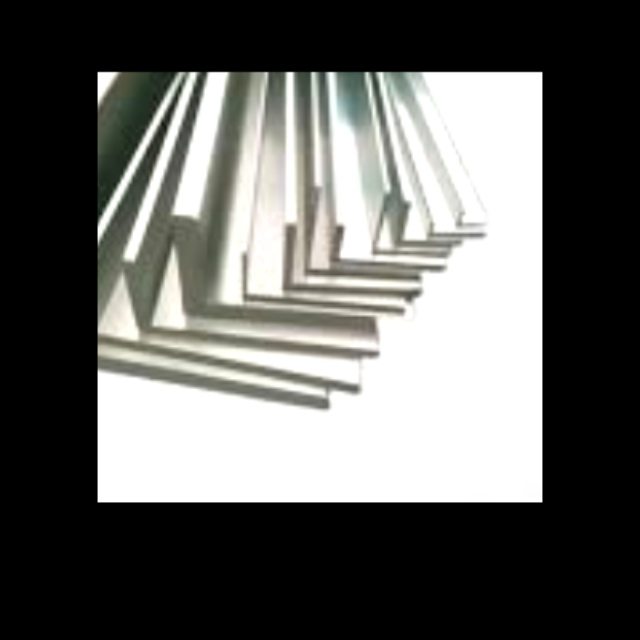Angle: (98, 239, 324, 406), (98, 287, 355, 392), (130, 265, 375, 353), (185, 220, 370, 324), (245, 255, 401, 311), (308, 195, 413, 277), (290, 231, 417, 293), (374, 196, 445, 257), (336, 230, 441, 269)
